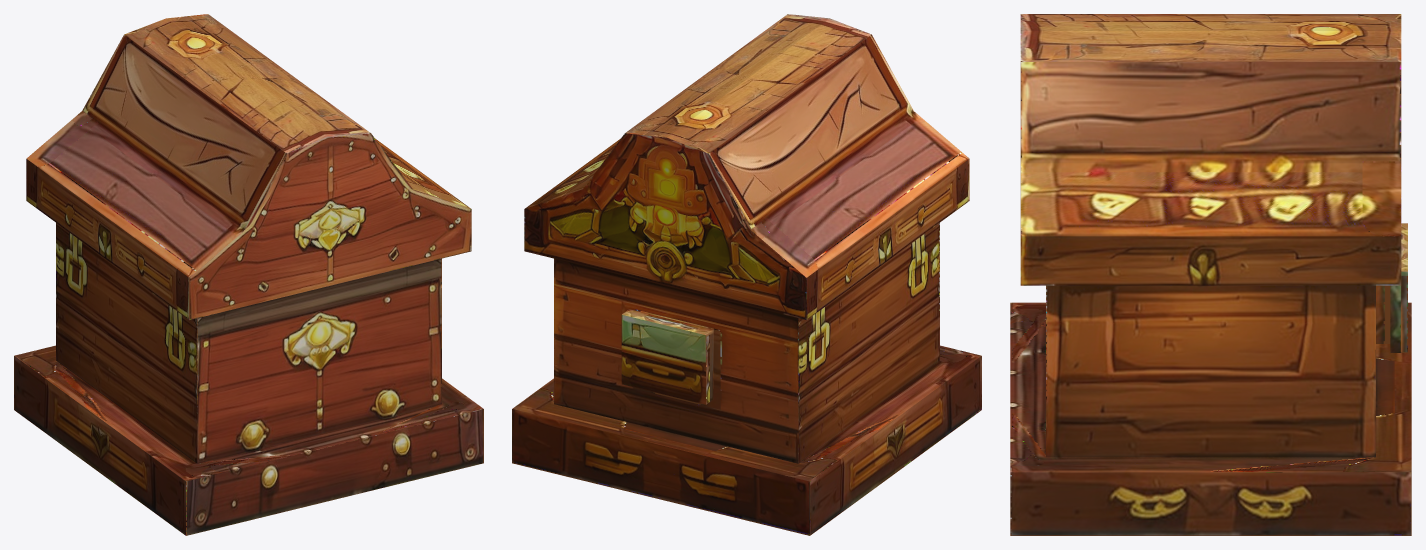
File: TreasureBox.glb
3 views of the same model, side by side, from view 1: azimuth 30°, elevation 25°; view 2: azimuth 150°, elevation 25°; view 3: azimuth 270°, elevation 25° (orthographic). The views are drawn at different scales.
Visible parts, largest first — view 1: mesh; view 2: mesh; view 3: mesh.
Boxes of the visible parts, x1,y1,x2,y2 form: mesh: [14, 14, 483, 535]; mesh: [512, 14, 981, 535]; mesh: [1010, 14, 1411, 535].
Bounding box in the file's own units: 3.59 × 4.14 × 3.59.
1 material, 1 textured.
